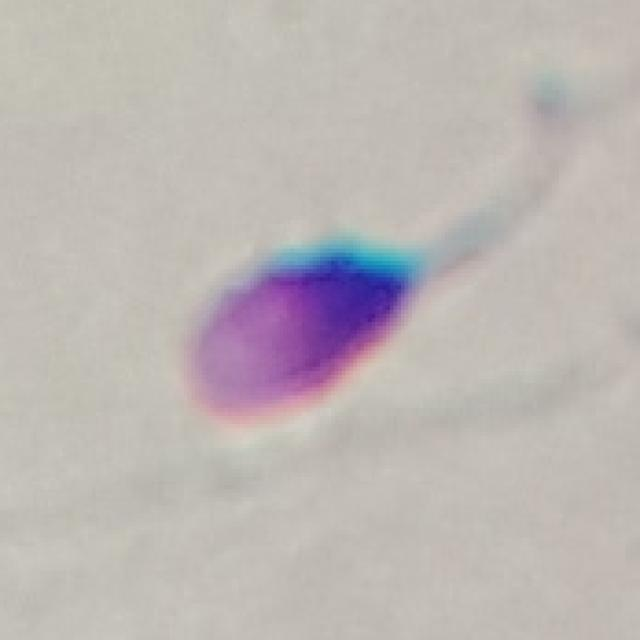normal sperm: (186, 213, 504, 422)
